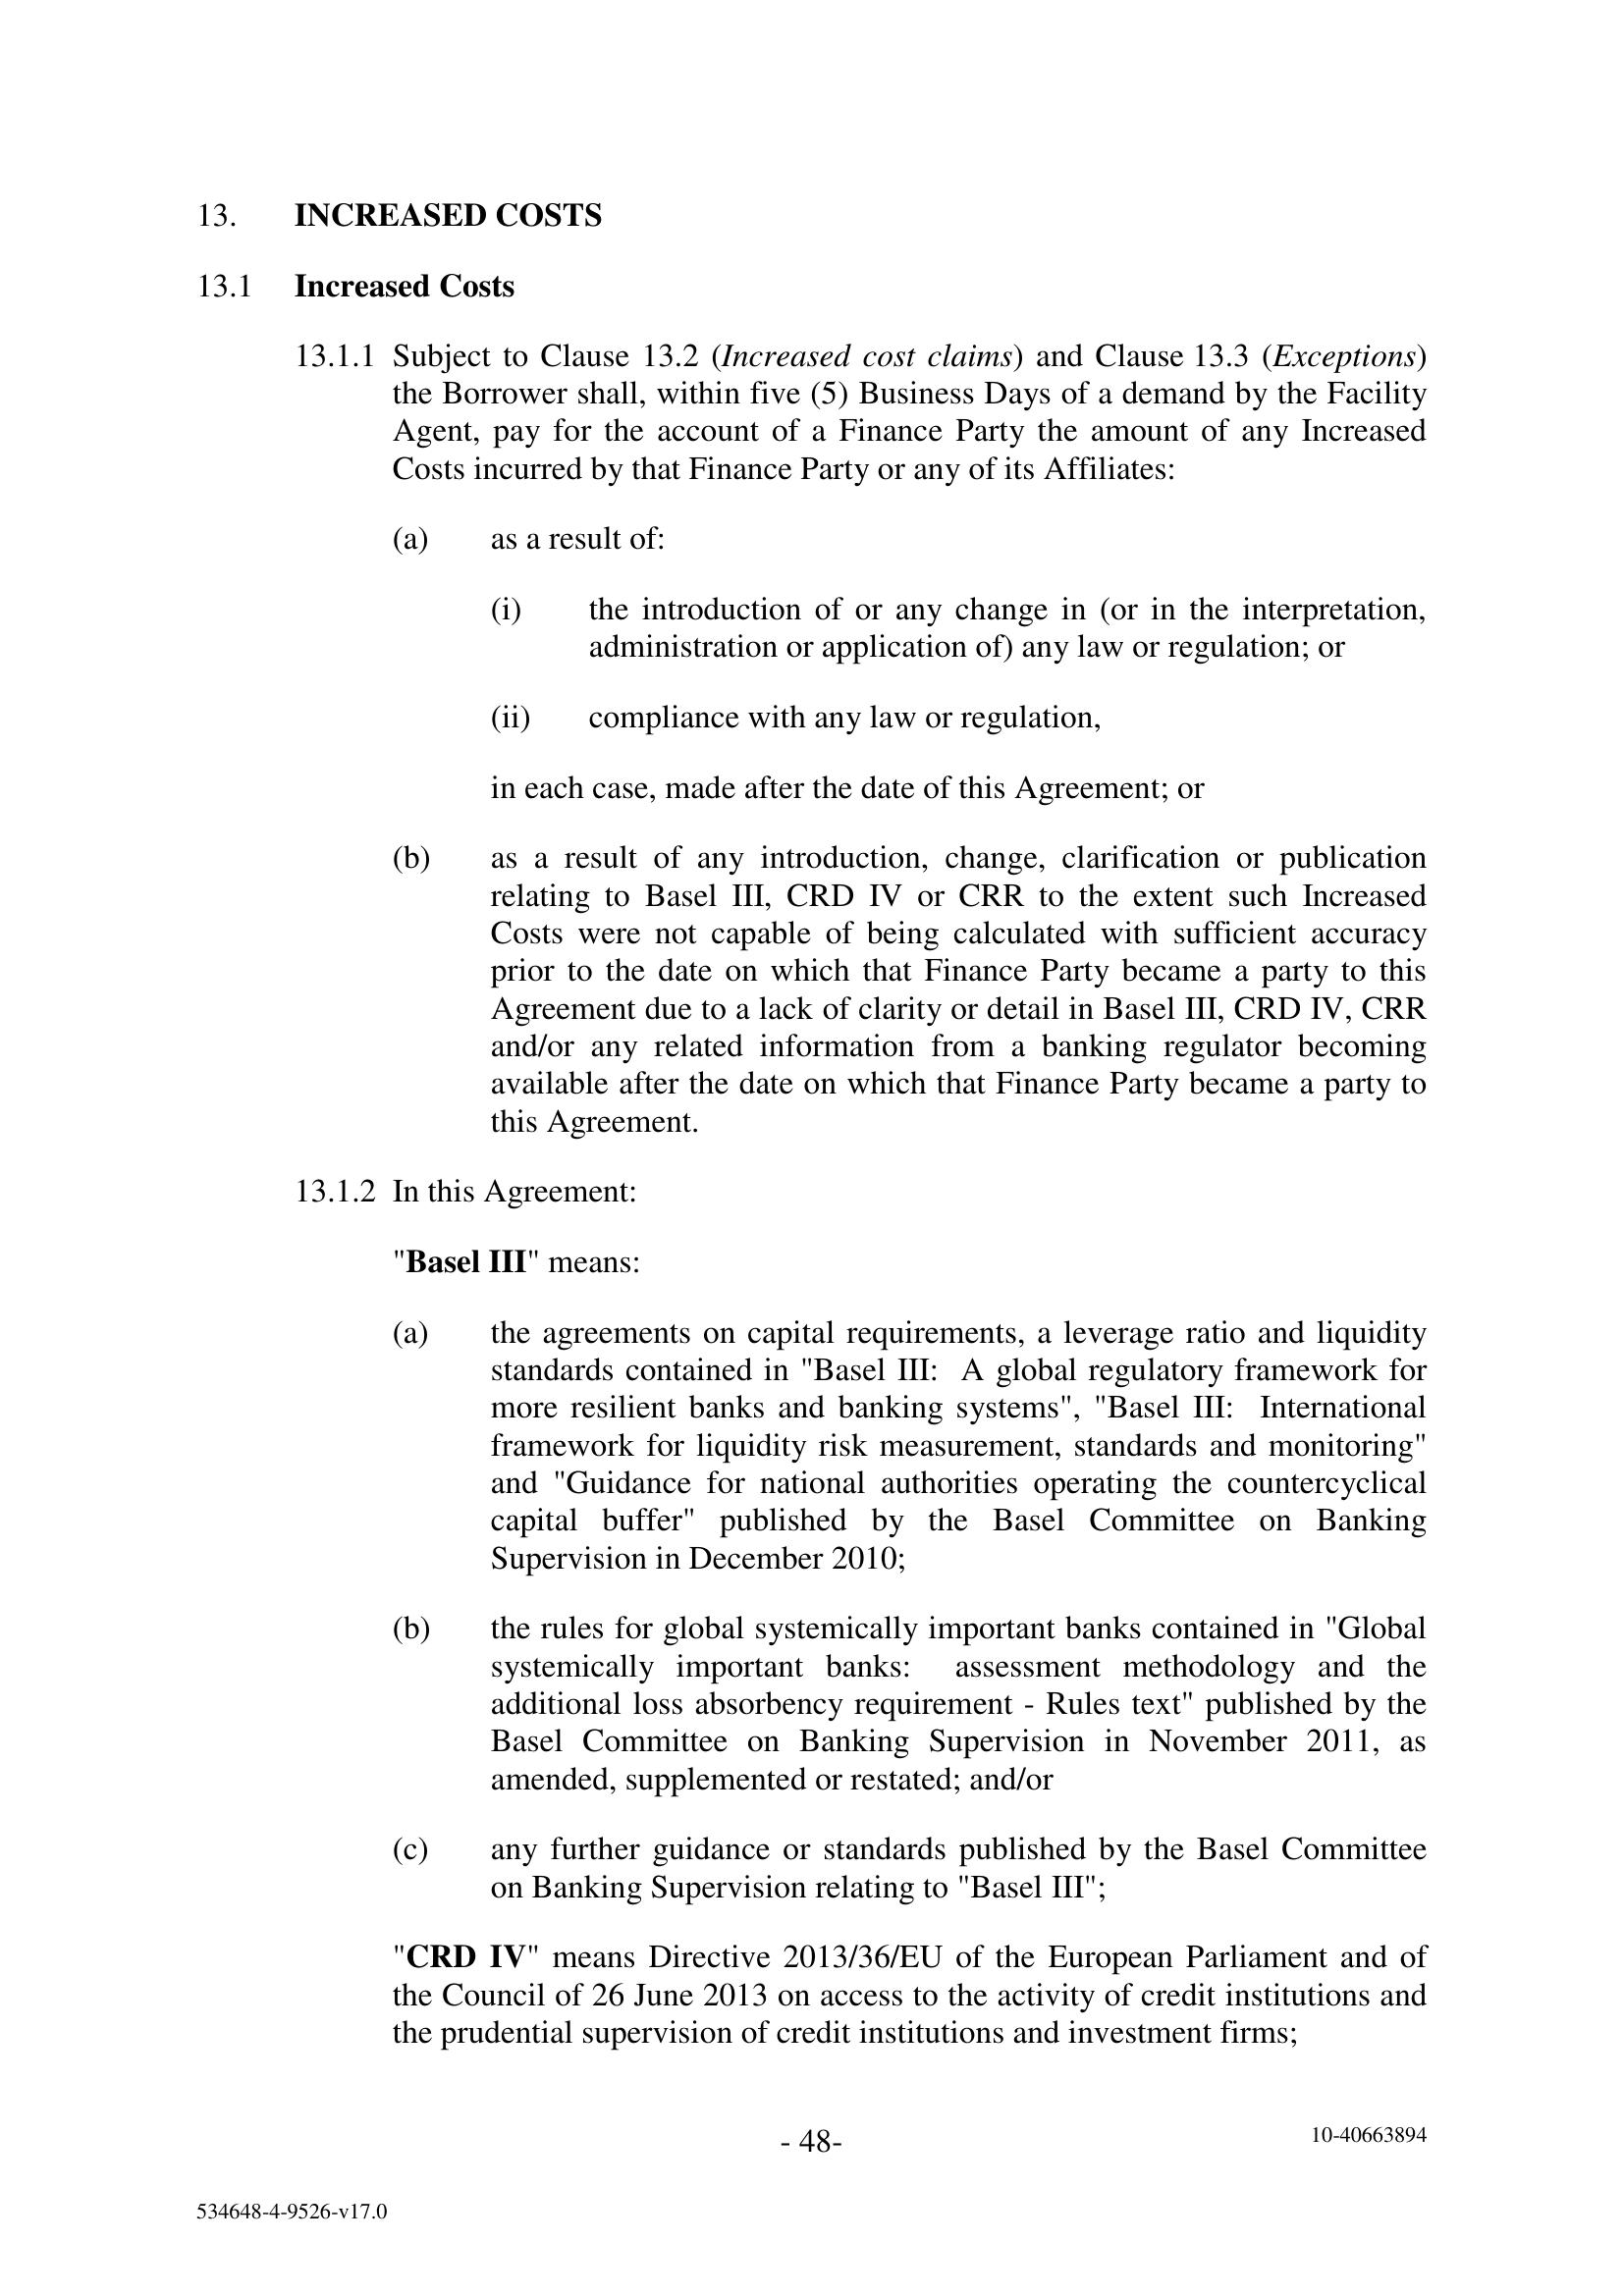pageno: (729, 2087, 894, 2206)
tag: (1205, 2087, 1560, 2194), (104, 2171, 451, 2264)
